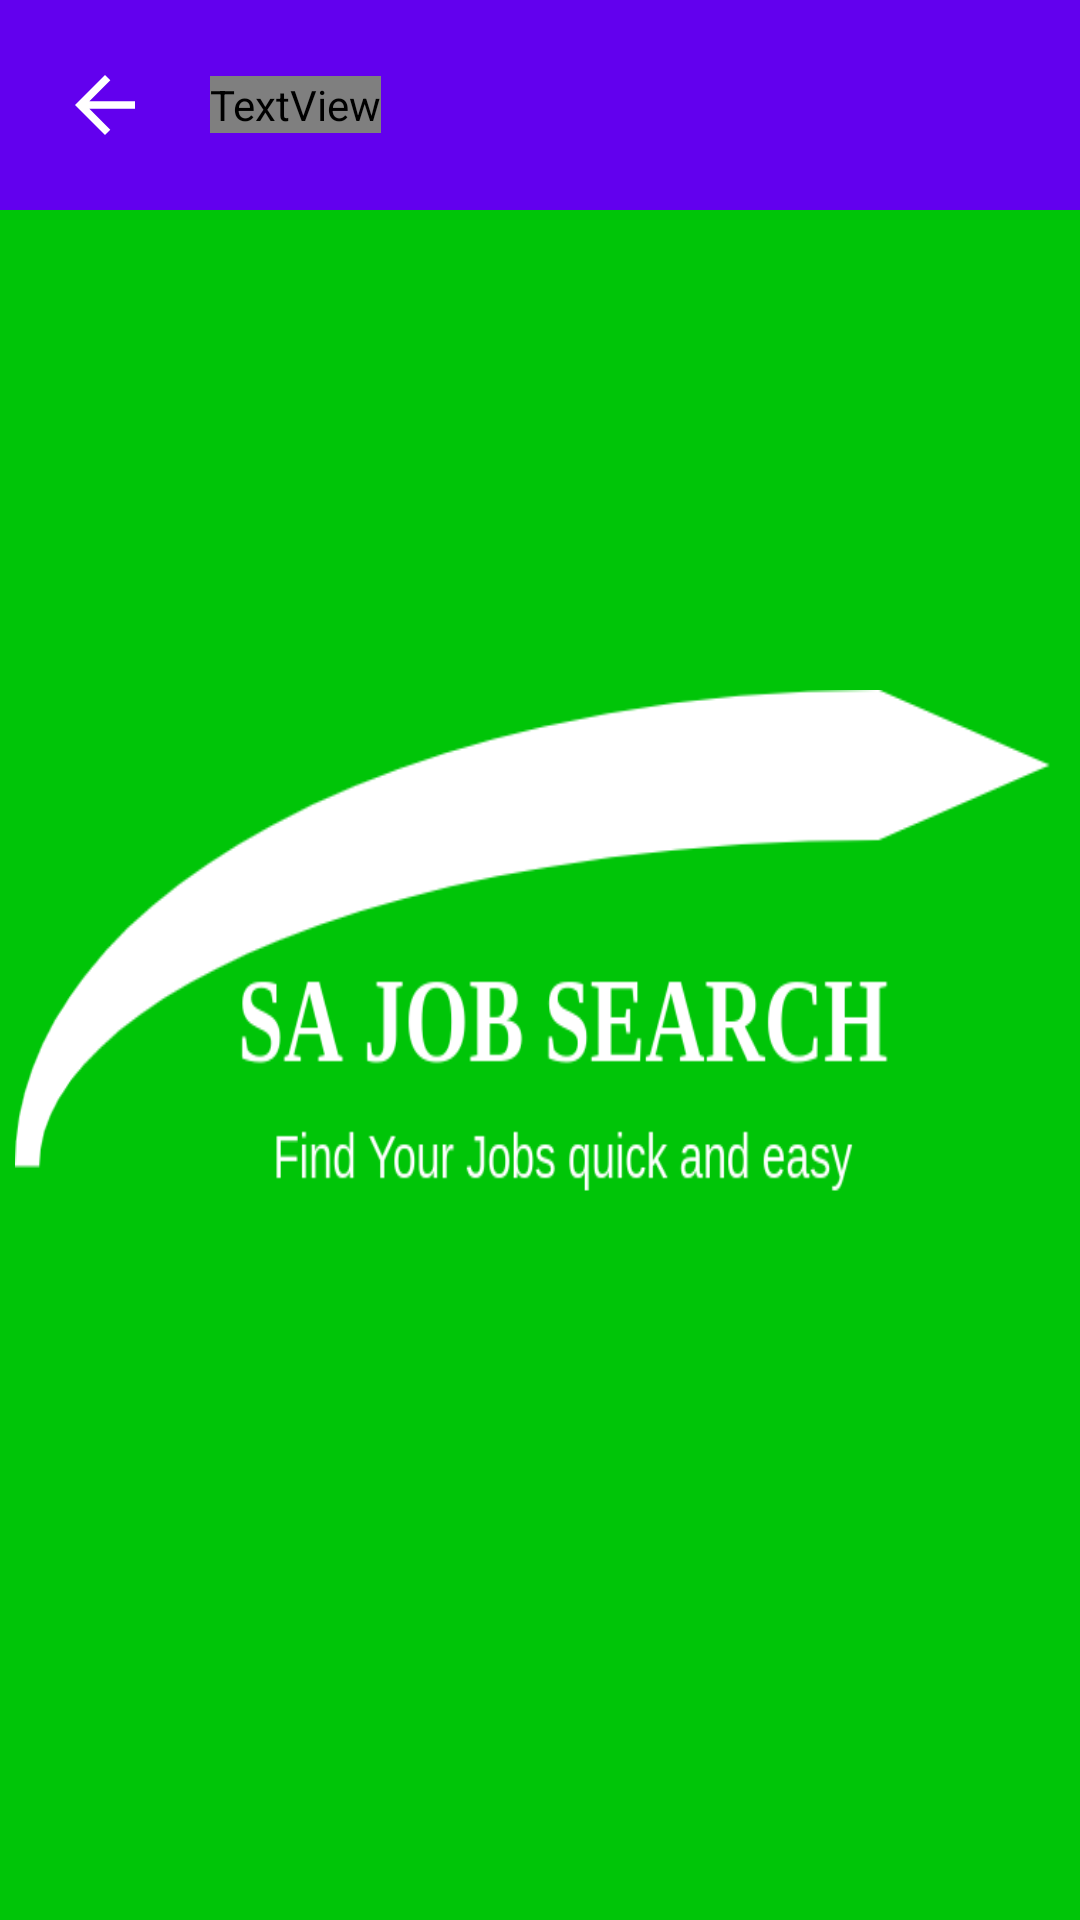

Icon click points for this 1080w x 1920h phone screenshot, format (x=x, y=y):
arrow back: (x=105, y=105)
